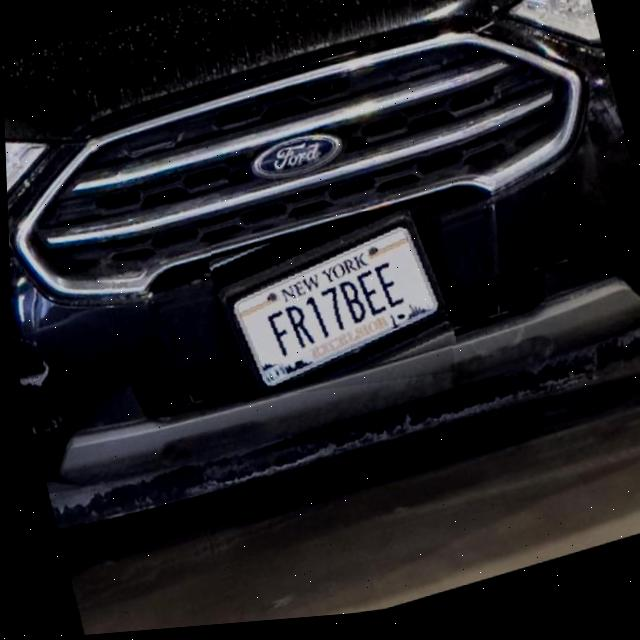LicensePlate: (212, 213, 447, 403)
